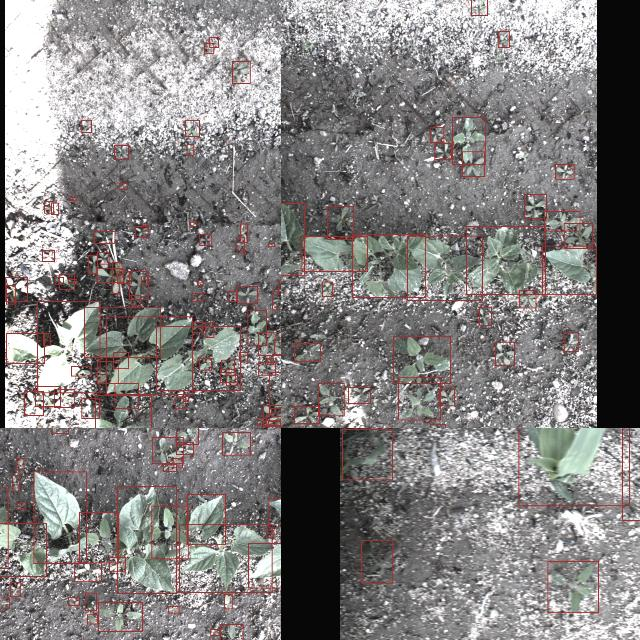crop: (518, 428, 629, 505), (106, 317, 192, 395), (118, 486, 176, 594), (180, 524, 272, 592), (36, 301, 100, 393), (466, 226, 546, 294), (156, 327, 240, 391), (34, 472, 86, 564), (408, 236, 482, 300), (352, 235, 426, 298), (84, 308, 160, 358), (542, 246, 596, 294), (342, 428, 392, 479), (0, 523, 46, 576), (301, 236, 367, 272), (79, 513, 119, 563), (187, 495, 225, 545), (152, 506, 188, 558), (621, 428, 640, 520), (281, 203, 304, 275), (248, 543, 281, 588), (6, 334, 44, 364), (268, 498, 281, 527)
weed: (394, 336, 451, 384), (548, 561, 598, 613), (95, 395, 151, 428), (398, 376, 440, 419), (452, 118, 486, 164), (98, 602, 142, 632), (362, 540, 392, 584), (327, 207, 353, 240), (318, 384, 344, 416), (153, 438, 183, 464), (544, 211, 580, 231), (564, 224, 592, 248), (248, 310, 266, 346), (222, 432, 250, 454), (269, 372, 281, 422), (114, 384, 138, 408), (258, 332, 281, 355), (5, 277, 27, 301), (462, 152, 484, 176), (524, 195, 546, 219), (130, 271, 148, 299), (75, 563, 102, 581), (96, 361, 118, 383), (36, 386, 60, 406), (495, 342, 515, 366), (294, 343, 320, 361), (23, 391, 42, 415), (294, 406, 318, 424), (232, 61, 250, 83), (263, 405, 281, 426), (97, 268, 123, 282), (237, 286, 257, 304), (54, 389, 74, 407), (81, 399, 99, 419), (348, 387, 370, 403), (176, 428, 198, 444), (220, 625, 243, 640), (434, 144, 452, 160), (556, 164, 574, 180), (520, 290, 536, 308), (564, 332, 578, 352), (478, 306, 492, 326), (94, 230, 115, 243), (112, 262, 120, 294), (58, 274, 74, 290), (258, 362, 276, 376), (471, 0, 487, 15), (185, 120, 199, 136), (114, 352, 128, 368), (440, 390, 454, 406), (109, 557, 125, 571), (176, 442, 194, 454), (71, 366, 91, 376), (85, 593, 96, 611), (114, 145, 128, 159), (116, 272, 132, 284), (220, 370, 236, 382), (431, 128, 444, 142), (267, 413, 281, 425), (272, 291, 281, 309), (499, 31, 509, 47), (198, 358, 212, 369), (240, 224, 248, 242), (97, 252, 109, 264), (88, 255, 96, 273), (222, 360, 234, 372), (42, 250, 54, 262), (6, 286, 14, 304), (134, 227, 148, 237), (322, 282, 332, 296), (10, 582, 20, 596), (206, 322, 214, 338), (12, 475, 20, 491), (224, 594, 232, 610), (204, 42, 214, 54), (81, 120, 91, 132), (44, 201, 54, 213), (200, 234, 210, 246), (226, 375, 238, 385), (274, 339, 281, 355), (192, 322, 202, 332), (175, 398, 185, 408), (87, 614, 97, 624), (173, 458, 183, 468), (42, 332, 49, 346), (186, 144, 194, 156), (51, 203, 59, 215), (236, 238, 244, 250), (268, 420, 280, 428), (164, 464, 176, 472), (0, 598, 9, 608), (16, 458, 24, 469), (210, 37, 218, 47), (228, 291, 236, 301), (192, 293, 202, 301), (132, 296, 140, 306), (271, 408, 281, 416), (168, 606, 178, 614), (68, 598, 78, 606), (240, 352, 248, 361), (258, 418, 266, 426), (266, 530, 274, 538), (54, 278, 64, 284), (430, 424, 445, 428), (16, 503, 26, 509), (210, 629, 220, 635), (119, 183, 127, 189), (141, 276, 147, 284), (278, 280, 281, 294), (267, 358, 273, 364), (68, 279, 76, 283), (70, 197, 76, 201), (190, 222, 196, 226), (198, 280, 202, 286), (184, 396, 188, 402), (269, 244, 275, 246), (142, 224, 146, 226), (243, 250, 245, 254)
